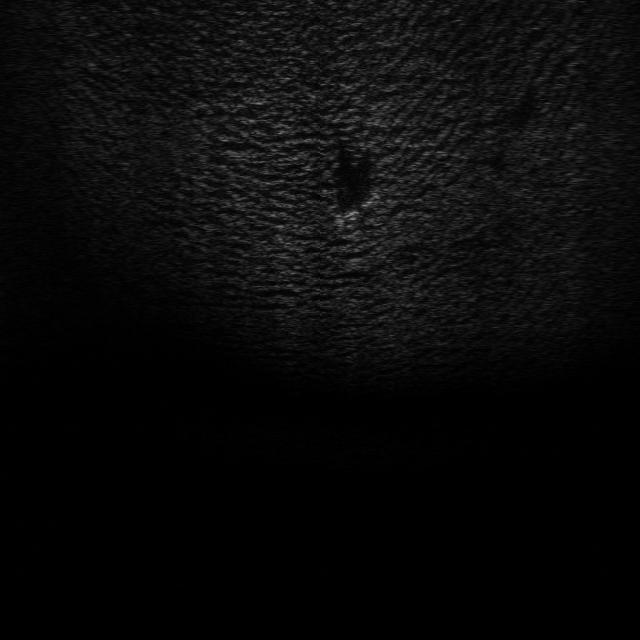plane: (328, 185, 382, 232)
